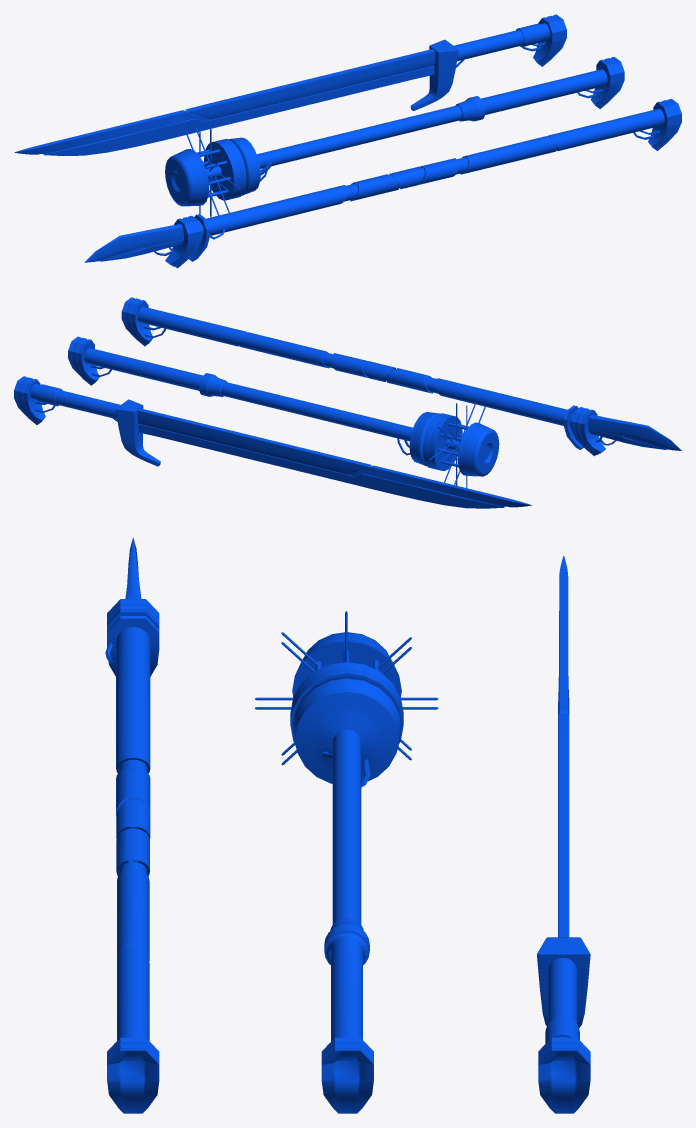
File: Long Sword Blue.FBX
3 renders of one model, top to bottom at view 1: azimuth 30°, elevation 25°; view 2: azimuth 150°, elevation 25°; view 3: azimuth 270°, elevation 25°, orthographic. The views are drawn at different scales.
Parts seen in each view (by area): view 1: Blue Sword, Blue Spear, Blue Mace; view 2: Blue Sword, Blue Spear, Blue Mace; view 3: Blue Mace, Blue Spear, Blue Sword.
Part boxes in pixels (bbox=[...]): Blue Sword: bbox=[14, 14, 566, 155]; Blue Spear: bbox=[84, 98, 681, 268]; Blue Mace: bbox=[165, 57, 624, 217]; Blue Sword: bbox=[14, 376, 531, 508]; Blue Spear: bbox=[121, 297, 681, 456]; Blue Mace: bbox=[68, 336, 499, 487]; Blue Mace: bbox=[255, 611, 438, 1113]; Blue Spear: bbox=[105, 537, 159, 1113]; Blue Sword: bbox=[537, 555, 590, 1113].
Bounding box in the file's own units: 10.85 × 1.56 × 4.12.
1 material, 1 textured.
